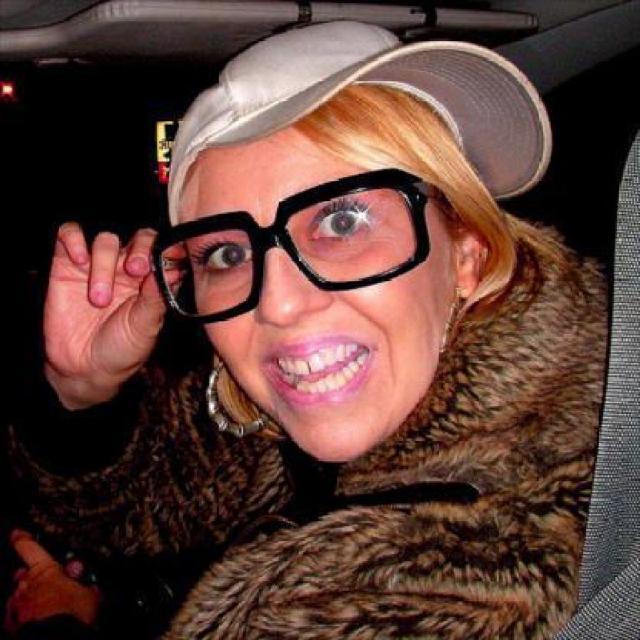face_nomask: (195, 173, 427, 402)
glasses: (145, 162, 449, 321)
hand_noglove: (38, 212, 198, 380)
head_nohelmet: (187, 21, 490, 156)
